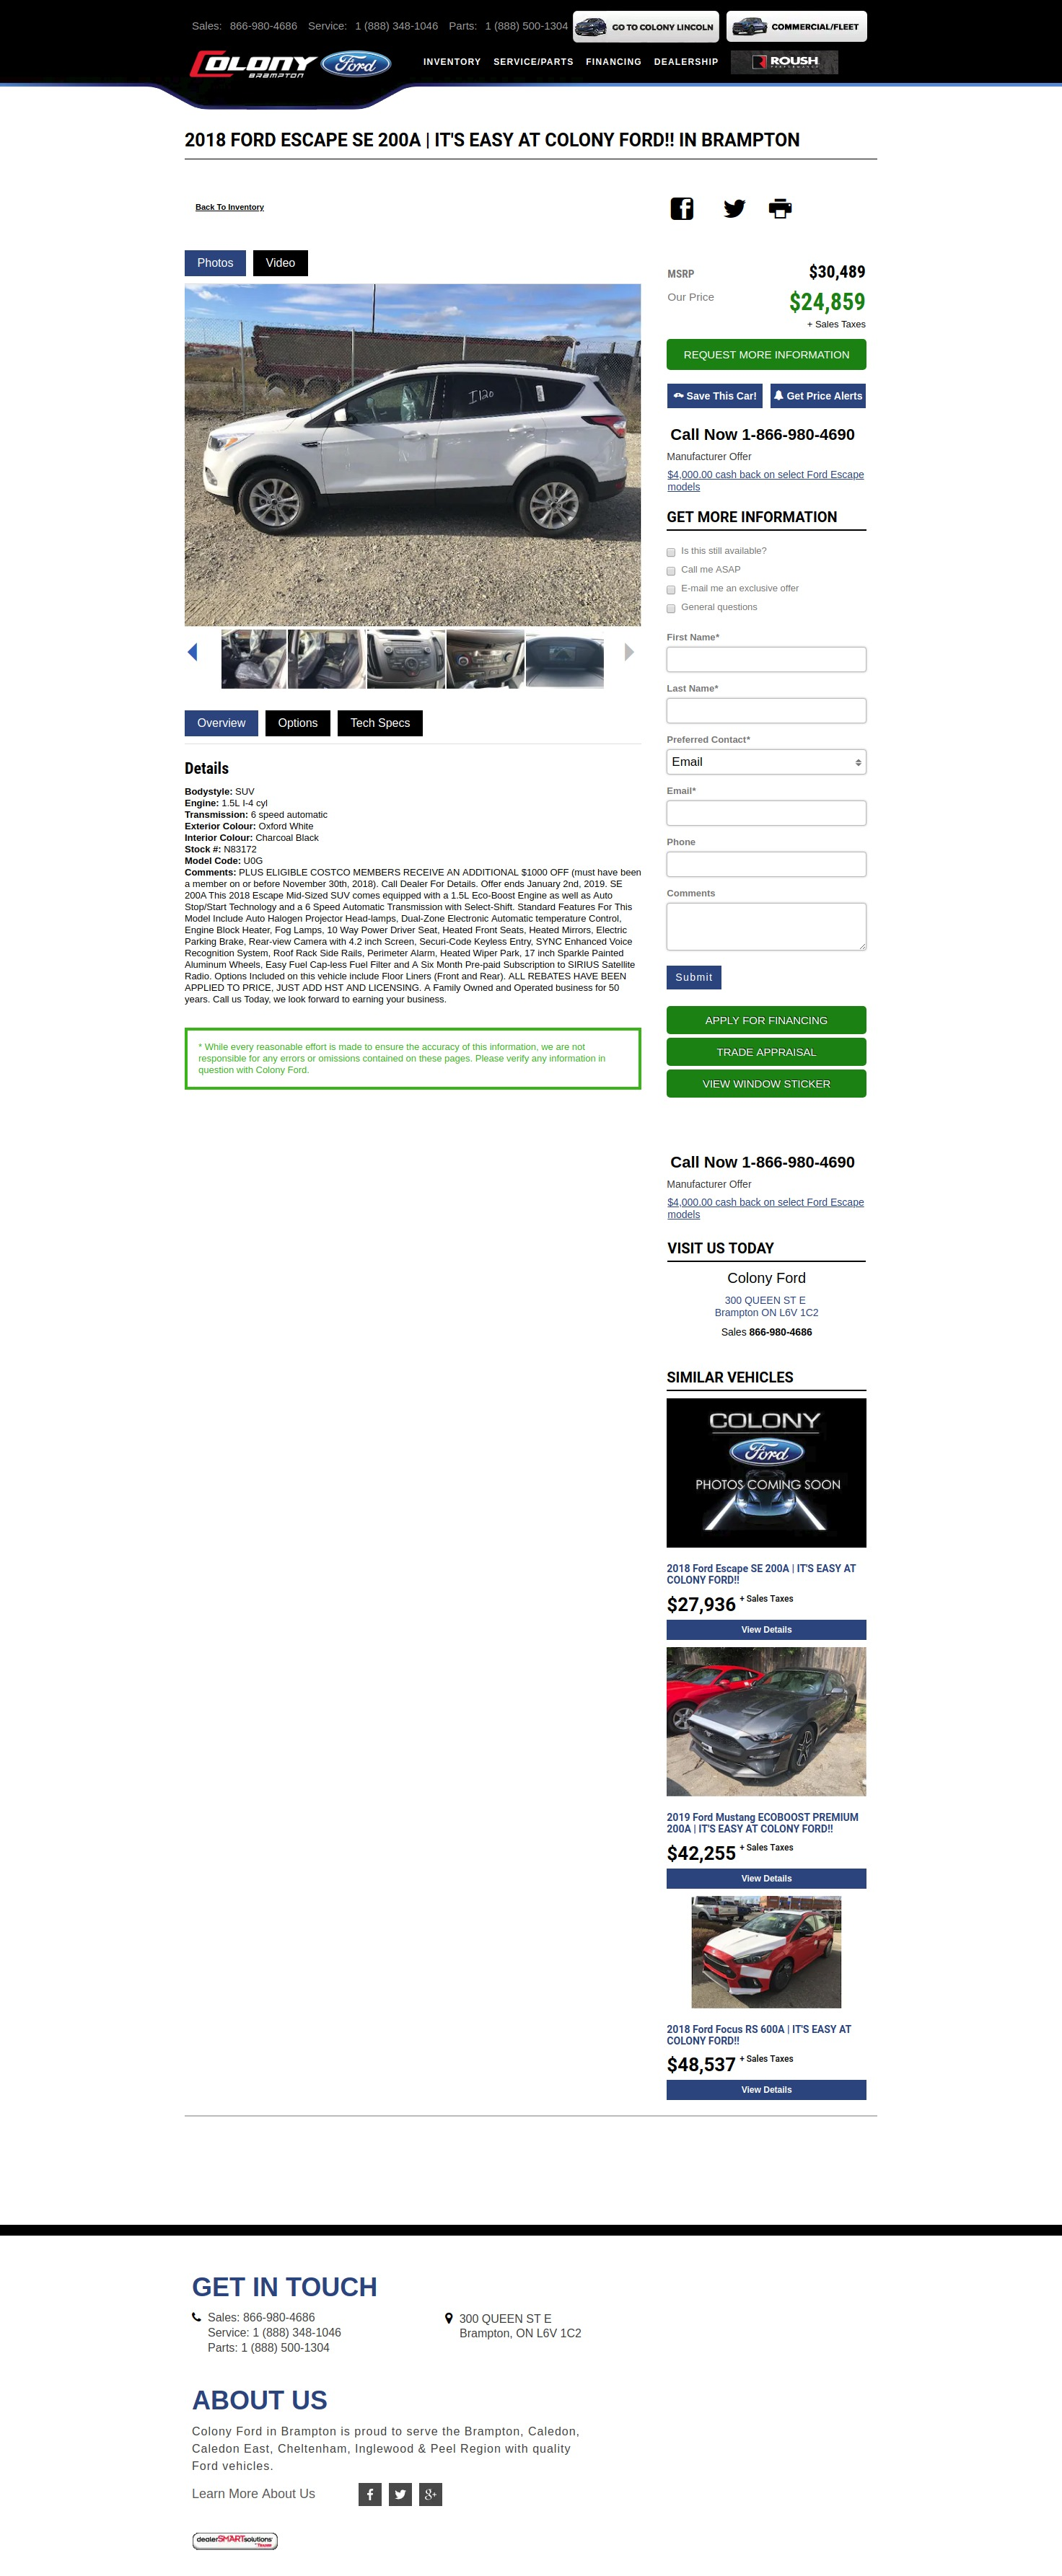car: (623, 644, 636, 664)
